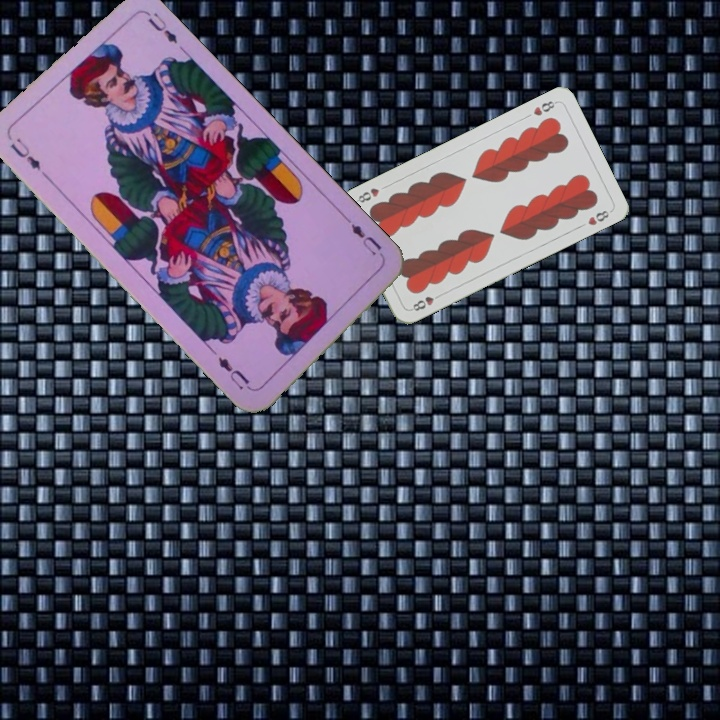EU: (6, 134, 52, 182), (342, 214, 385, 258)
H8: (407, 289, 444, 314), (529, 97, 560, 118)
